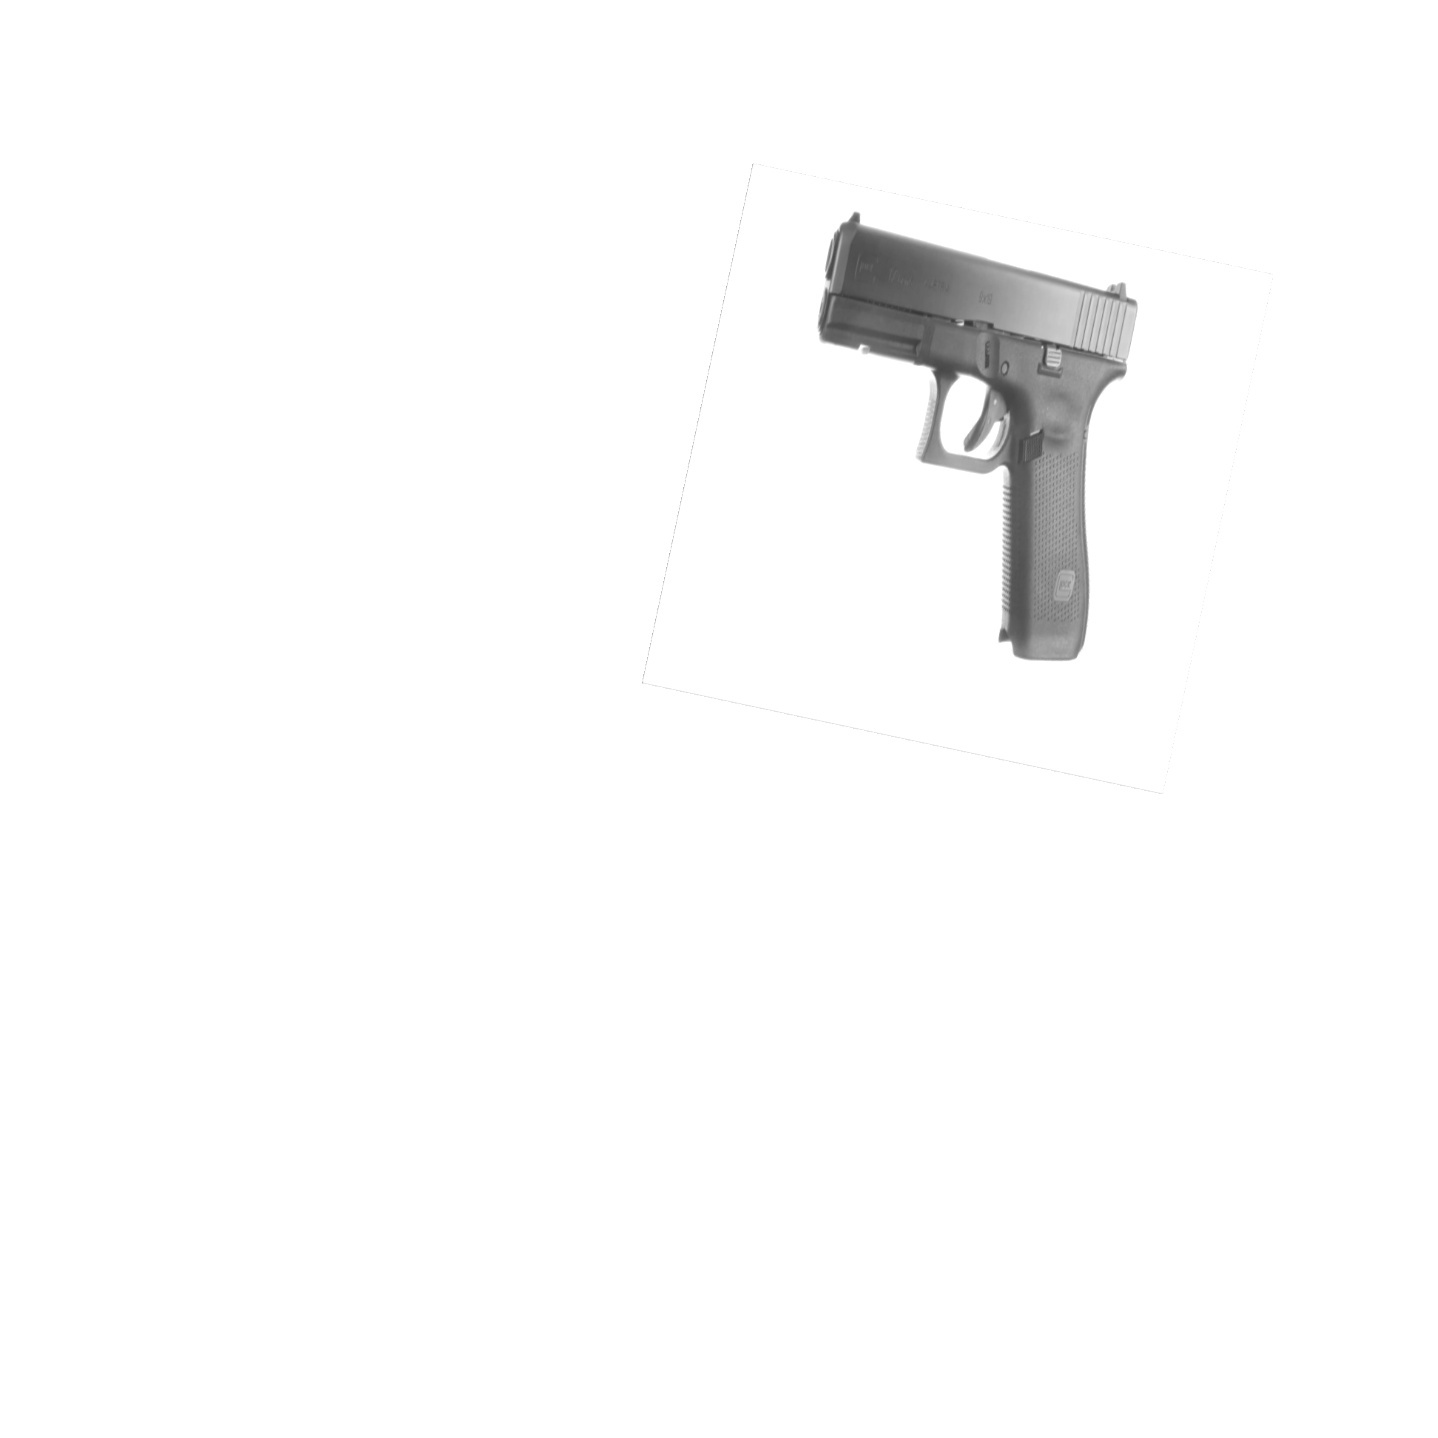gun: (791, 201, 1140, 666)
